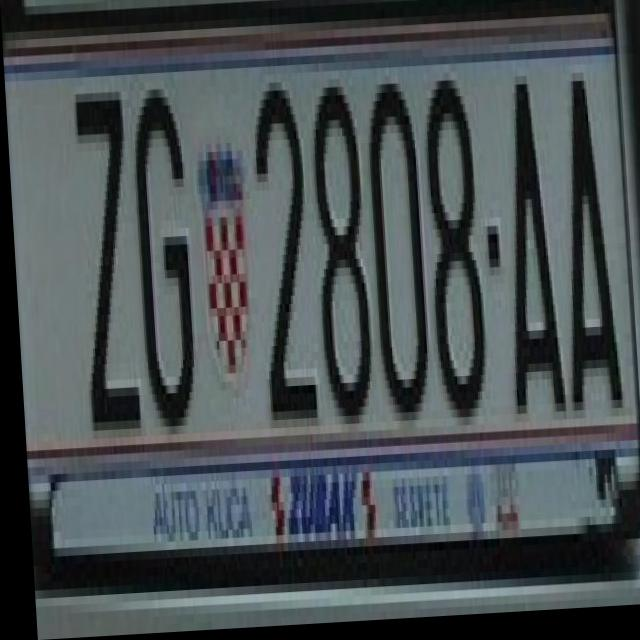0: (361, 71, 428, 426)
2: (248, 76, 317, 432)
8: (415, 68, 487, 424), (306, 58, 373, 421)
A: (489, 65, 563, 420), (550, 62, 622, 418)
G: (125, 74, 196, 421)
Z: (72, 84, 140, 440)
